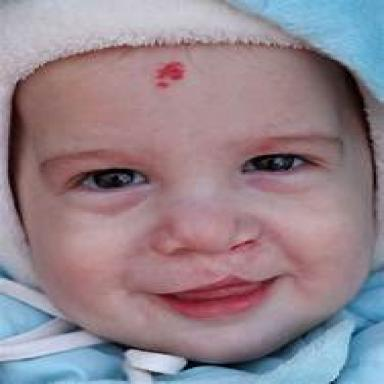Hemangiome: (157, 61, 185, 88)
